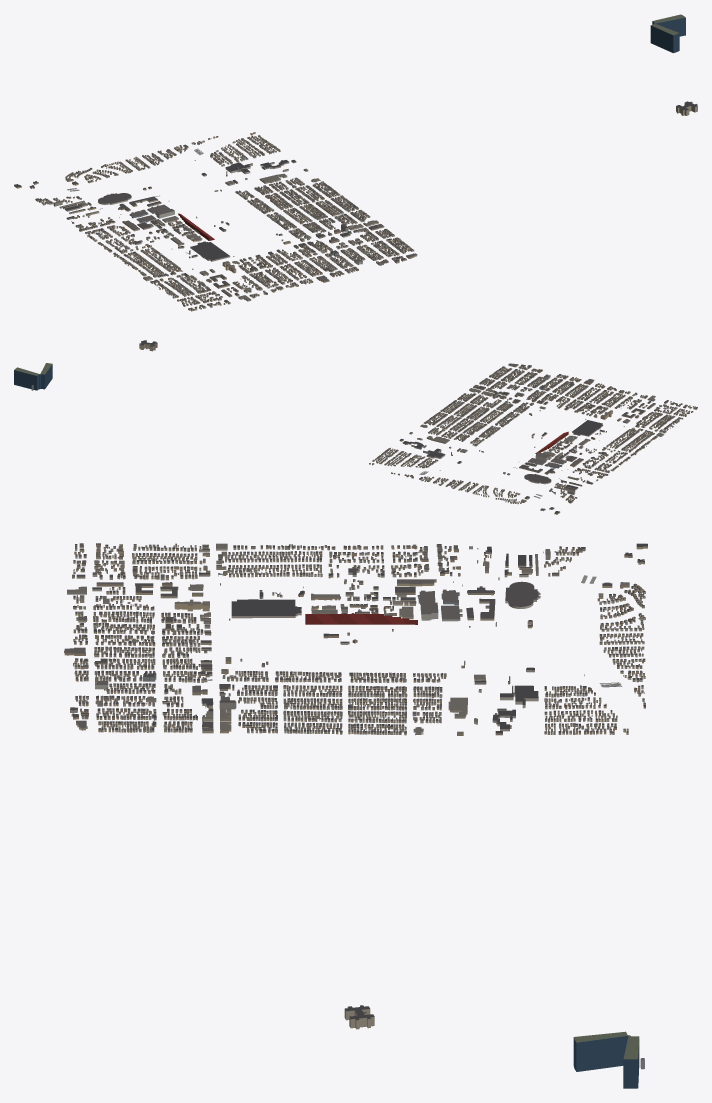
The model's file is scenery.glb.
The picture shows the model from 3 angles, top to bottom: view 1: azimuth 30°, elevation 25°; view 2: azimuth 150°, elevation 25°; view 3: azimuth 270°, elevation 25°; orthographic projection. The views are drawn at different scales.
Visible parts, largest first — view 1: chunk_15_16, chunk_16_15, chunk_16_14, chunk_14_16, chunk_16_16, chunk_14_14, chunk_16_13, chunk_23_12, chunk_13_15, chunk_13_16, chunk_13_14, chunk_14_15 (+6 smaller); view 2: chunk_15_16, chunk_16_15, chunk_16_14, chunk_16_16, chunk_14_16, chunk_14_14, chunk_16_13, chunk_23_12, chunk_13_15, chunk_13_16, chunk_13_14, chunk_14_15 (+7 smaller); view 3: chunk_15_16, chunk_16_15, chunk_16_14, chunk_16_16, chunk_14_16, chunk_14_14, chunk_16_13, chunk_23_12, chunk_13_15, chunk_13_16, chunk_14_15, chunk_13_14 (+7 smaller).
Boxes of the visible parts, x1=… form: chunk_15_16: x1=255, y1=243, x2=355, y2=287; chunk_16_15: x1=287, y1=199, x2=384, y2=243; chunk_16_14: x1=254, y1=177, x2=346, y2=214; chunk_14_16: x1=186, y1=259, x2=288, y2=304; chunk_16_16: x1=320, y1=229, x2=417, y2=271; chunk_14_14: x1=109, y1=207, x2=214, y2=247; chunk_16_13: x1=210, y1=142, x2=308, y2=183; chunk_23_12: x1=650, y1=14, x2=685, y2=53; chunk_13_15: x1=114, y1=248, x2=184, y2=283; chunk_13_16: x1=154, y1=276, x2=221, y2=311; chunk_13_14: x1=78, y1=220, x2=145, y2=255; chunk_14_15: x1=150, y1=233, x2=252, y2=276; chunk_15_16: x1=531, y1=375, x2=615, y2=411; chunk_16_15: x1=444, y1=385, x2=529, y2=420; chunk_16_14: x1=420, y1=408, x2=492, y2=441; chunk_16_16: x1=479, y1=363, x2=561, y2=397; chunk_14_16: x1=585, y1=389, x2=671, y2=424; chunk_14_14: x1=535, y1=431, x2=606, y2=471; chunk_16_13: x1=381, y1=432, x2=461, y2=467; chunk_23_12: x1=14, y1=363, x2=52, y2=390; chunk_13_15: x1=610, y1=425, x2=666, y2=454; chunk_13_16: x1=642, y1=402, x2=697, y2=430; chunk_13_14: x1=577, y1=448, x2=634, y2=476; chunk_14_15: x1=564, y1=412, x2=639, y2=447; chunk_15_16: x1=64, y1=624, x2=200, y2=681; chunk_16_15: x1=192, y1=678, x2=328, y2=733; chunk_16_14: x1=326, y1=685, x2=442, y2=735; chunk_16_16: x1=70, y1=676, x2=199, y2=732; chunk_14_16: x1=67, y1=571, x2=209, y2=629; chunk_14_14: x1=305, y1=572, x2=459, y2=624; chunk_16_13: x1=448, y1=676, x2=581, y2=735; chunk_23_12: x1=573, y1=1031, x2=644, y2=1088; chunk_13_15: x1=199, y1=543, x2=326, y2=575; chunk_13_16: x1=73, y1=543, x2=201, y2=575; chunk_14_15: x1=199, y1=571, x2=337, y2=628; chunk_13_14: x1=327, y1=544, x2=457, y2=576.
Size of the model in its own units: 3974 by 102 by 1839.
